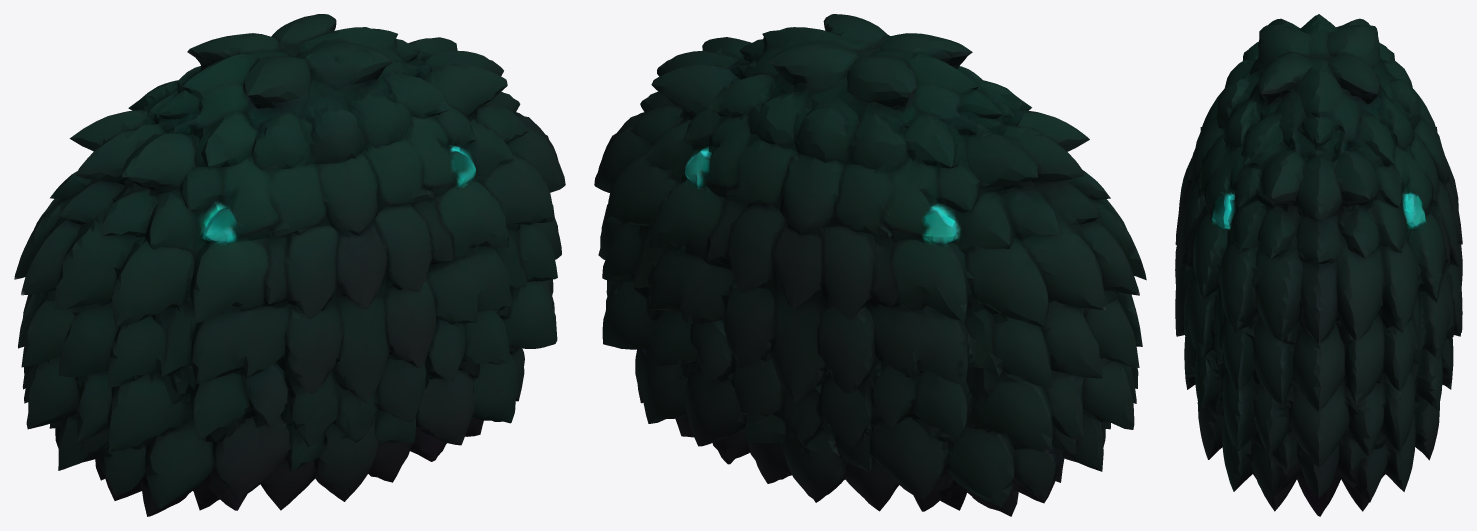
The model's file is Pandora_CanopyFoliage.glb.
3 views of the same model, side by side, from view 1: azimuth 30°, elevation 25°; view 2: azimuth 150°, elevation 25°; view 3: azimuth 270°, elevation 25° (orthographic). The views are drawn at different scales.
Visible parts, largest first — view 1: Pandora_CanopyFoliage_Body; view 2: Pandora_CanopyFoliage_Body; view 3: Pandora_CanopyFoliage_Body.
Boxes of the visible parts, box(x1,y1,x2,y2) form: Pandora_CanopyFoliage_Body: box(14, 14, 565, 516); Pandora_CanopyFoliage_Body: box(594, 14, 1146, 516); Pandora_CanopyFoliage_Body: box(1175, 14, 1462, 516).
Bounding box in the file's own units: 4.81 × 3.6 × 2.38.
Materials: 1 (1 with a texture image).
